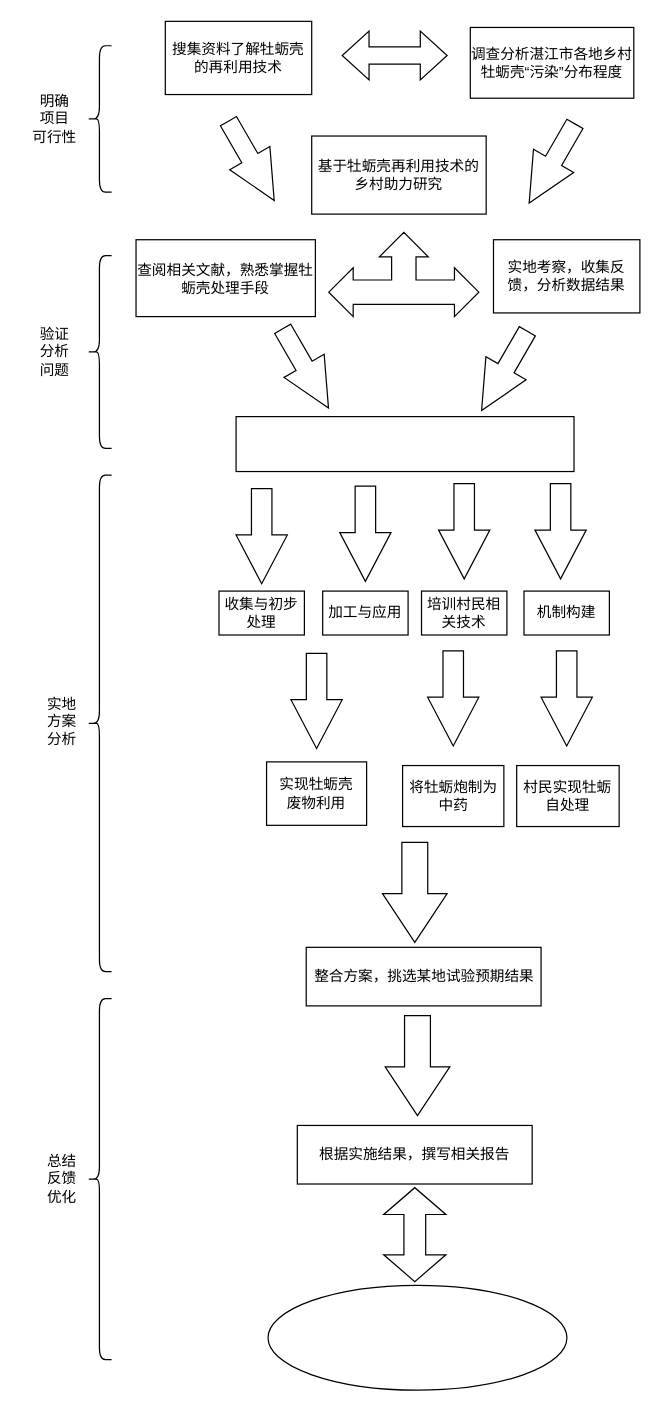
Some shapes in this 661 by 1412 pixel diagram are drawn without their labels. Each missing label, with the centre of its shape:
制定具体的实施方案: (404,443)
收集各方反馈意见，完善优化项目方案: (417,1337)
